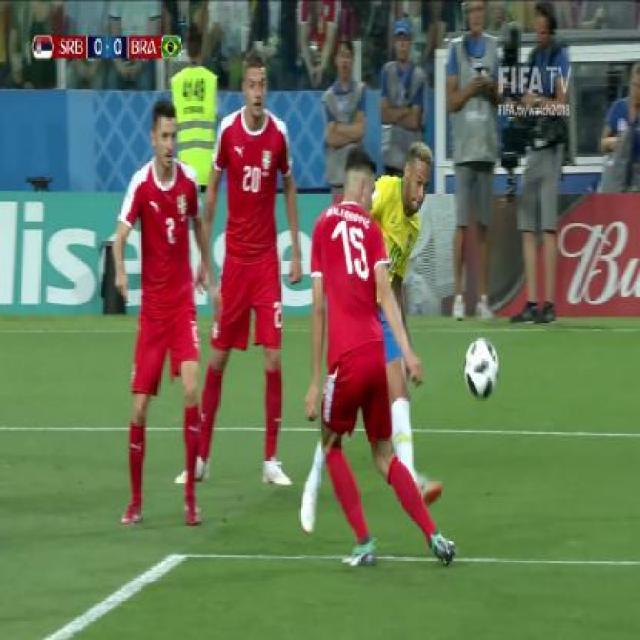ball: (460, 331, 505, 407)
player: (278, 133, 440, 576), (181, 26, 312, 517), (103, 90, 220, 536), (359, 129, 433, 360)
